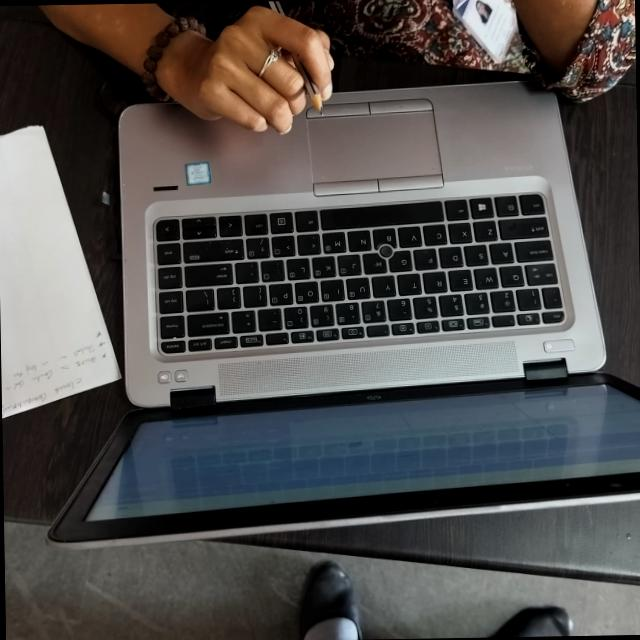laptop: (36, 88, 640, 564)
